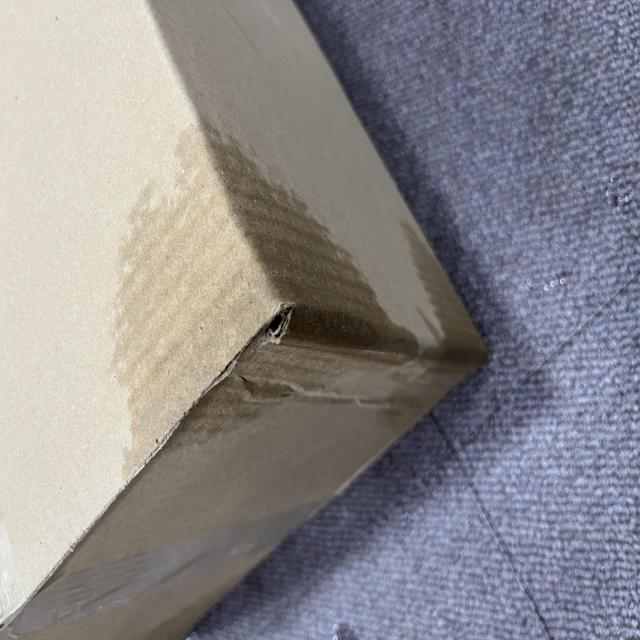wet: (122, 143, 389, 544)
